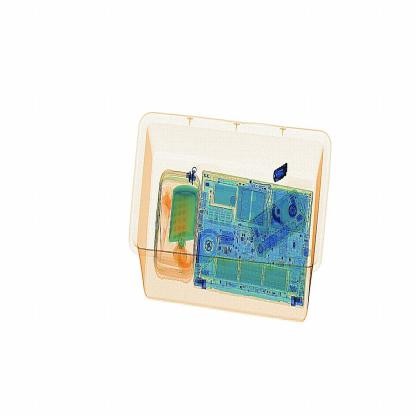knife: (273, 163, 296, 187)
